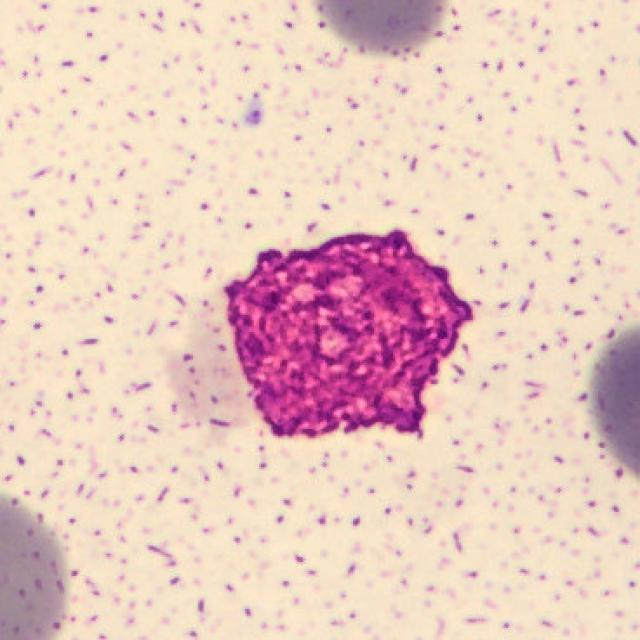Restos celulares: (226, 230, 475, 439)
